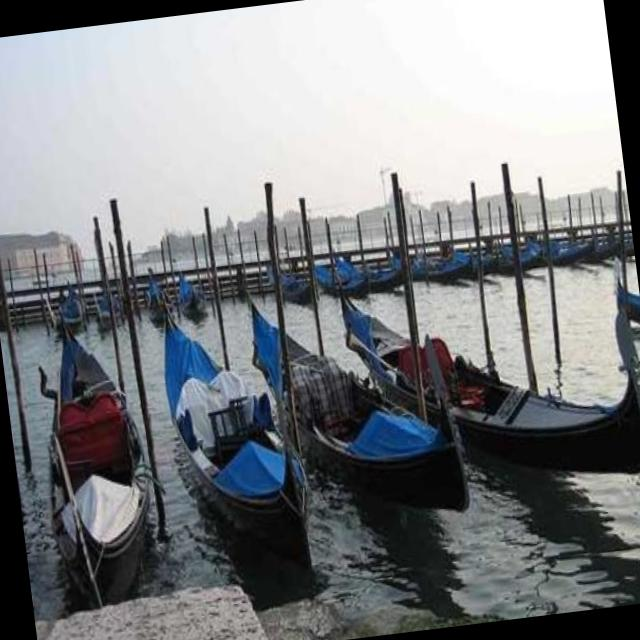boat: (314, 158, 640, 500), (230, 233, 481, 542), (148, 264, 328, 596), (22, 288, 176, 633)
